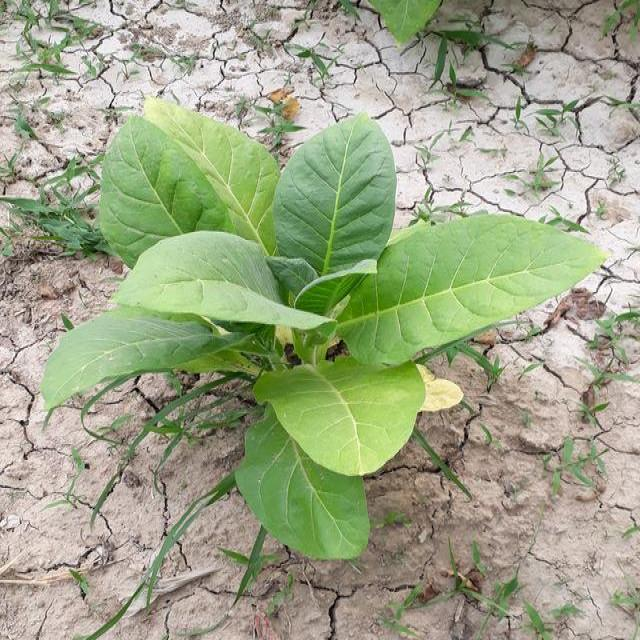crop: (60, 103, 580, 551)
